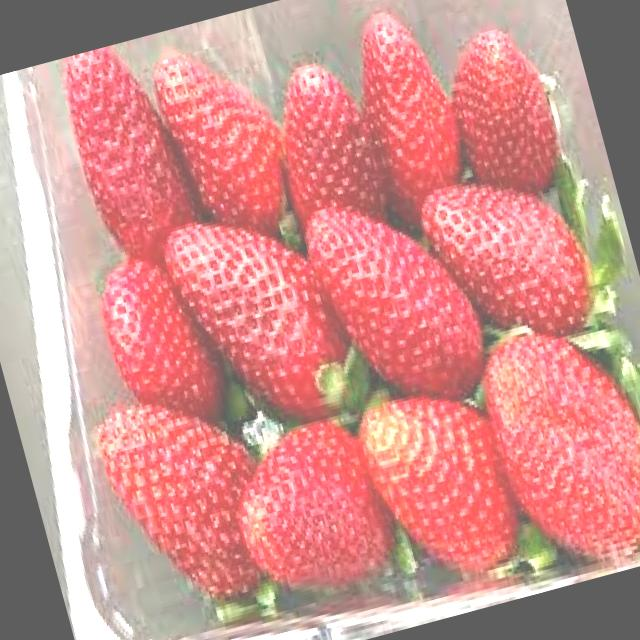Strawberry: (154, 188, 363, 445), (295, 174, 496, 426), (88, 374, 286, 622), (467, 305, 640, 580), (348, 372, 532, 595), (412, 153, 604, 361), (215, 405, 406, 613), (142, 28, 306, 257), (51, 35, 206, 273), (332, 0, 478, 231), (87, 239, 231, 441), (432, 16, 571, 208), (255, 49, 392, 240)
